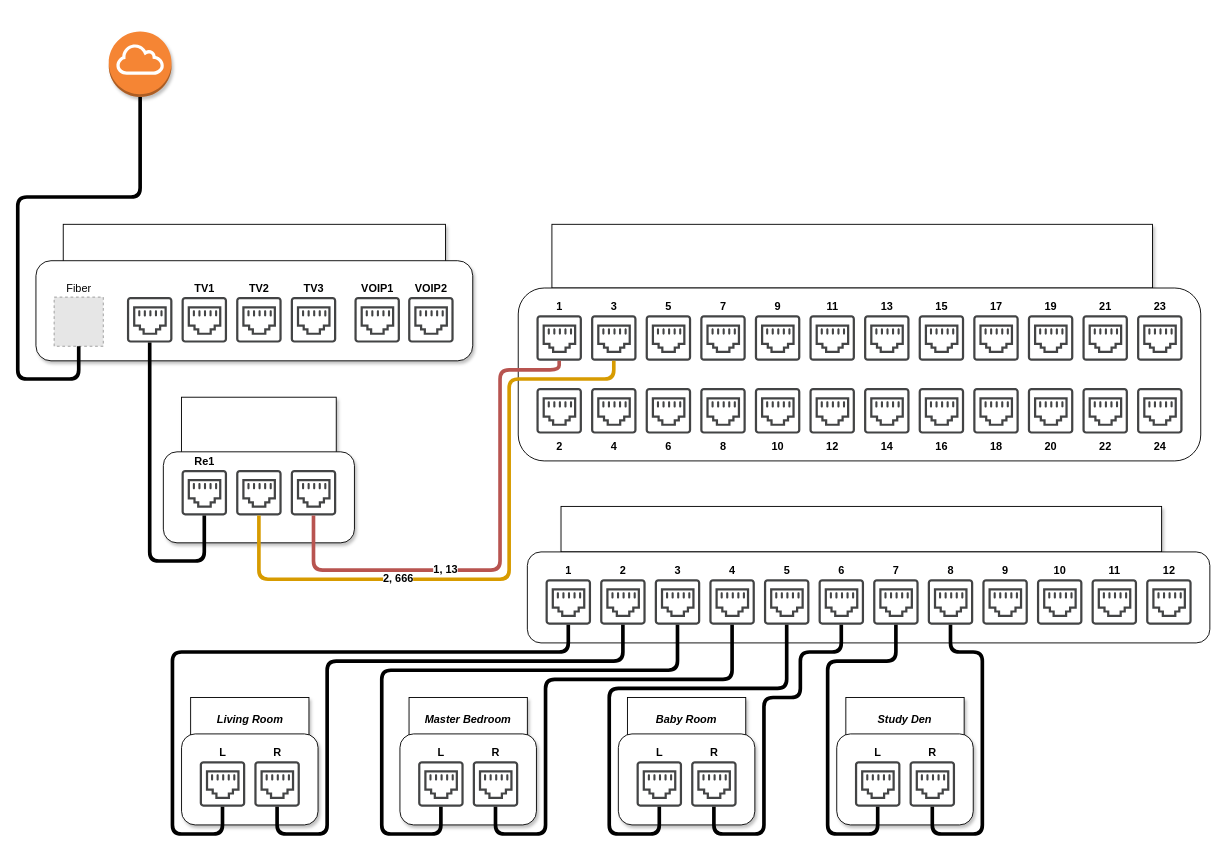
This 1226x853 diagram has some shape labels left out. Grey dashed boxes stand in for pictures. Each missing label, with the centre of its shape:
"12 port patch panel" belongs at [861,530].
"Genesis Fiber modem" belongs at [255,248].
"Internet" belongs at [140,65].
"IP" belongs at [149,319].
"Pathway D-Link 24 port switch" belongs at [852,257].
"PC Engines APU4D2 PfSense" belongs at [259,430].
"Re2" belongs at [258,492].
"Re3" belongs at [313,492].
